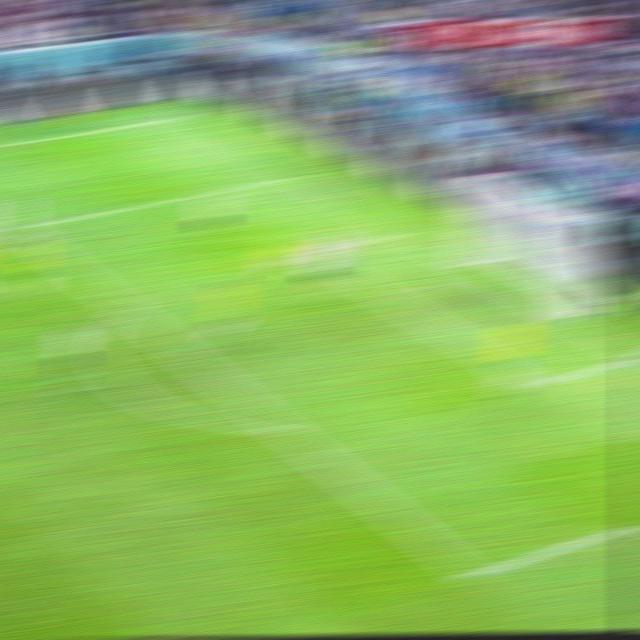bigarea_bottom_inner: (452, 562, 491, 594)
bigarea_top_outter: (277, 170, 308, 186)
bottom_arc_area_intersection: (263, 411, 298, 447)
corner: (166, 112, 197, 122)
smallarea_bottom_inner: (521, 376, 550, 395)
smallarea_top_outter: (386, 225, 416, 244)
top_arc_area_intersection: (111, 302, 142, 319)
